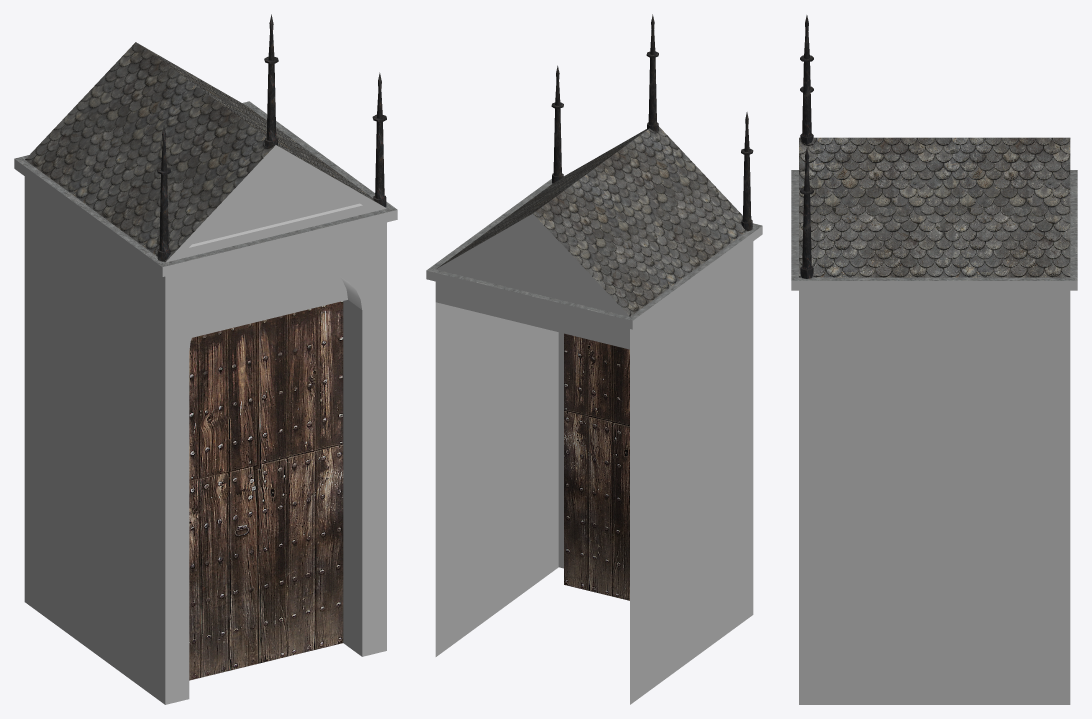
The model's file is Door.fbx.
3 renders of one model, left to right at view 1: azimuth 30°, elevation 25°; view 2: azimuth 150°, elevation 25°; view 3: azimuth 270°, elevation 25°, orthographic. The views are drawn at different scales.
Visible parts, largest first — view 1: Door; view 2: Door; view 3: Door.
Part boxes in pixels (x1,y1,x2,y2): Door: (14, 14, 397, 704); Door: (426, 14, 762, 704); Door: (791, 15, 1077, 704).
Size of the model in its own units: 163 by 438 by 178.
